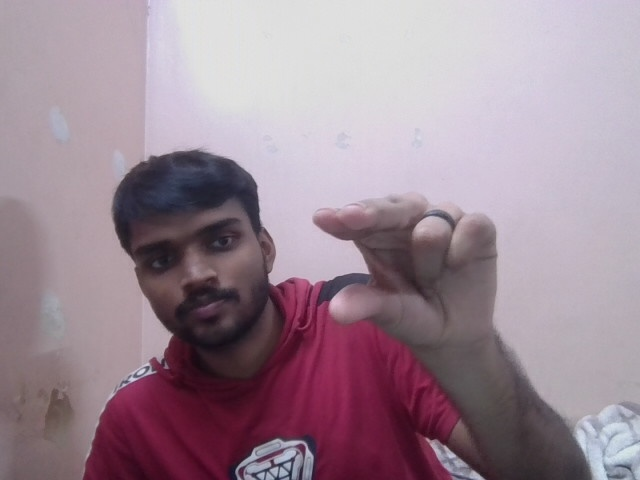No: (314, 179, 503, 340)
